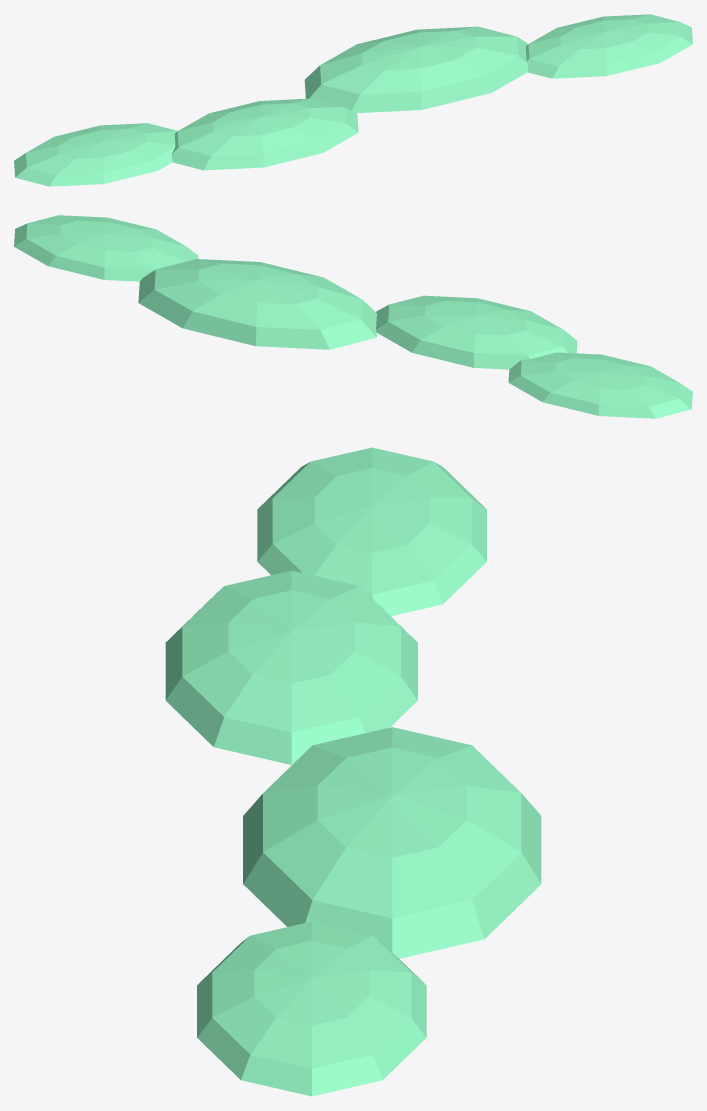
Rendered from hills.glb.
The picture shows the model from 3 angles, top to bottom: view 1: azimuth 30°, elevation 25°; view 2: azimuth 150°, elevation 25°; view 3: azimuth 270°, elevation 25°; orthographic projection. The views are drawn at different scales.
Parts seen in each view (by area): view 1: Hill1, Hill0, Hill2, Hill3; view 2: Hill1, Hill0, Hill3, Hill2; view 3: Hill1, Hill0, Hill2, Hill3.
Part boxes in pixels (x1=…): Hill1: x1=304, y1=26, x2=528, y2=113; Hill0: x1=171, y1=98, x2=358, y2=170; Hill2: x1=525, y1=14, x2=692, y2=78; Hill3: x1=14, y1=123, x2=177, y2=186; Hill1: x1=138, y1=259, x2=376, y2=349; Hill0: x1=376, y1=295, x2=577, y2=369; Hill3: x1=508, y1=352, x2=692, y2=418; Hill2: x1=14, y1=215, x2=198, y2=281; Hill1: x1=243, y1=727, x2=541, y2=958; Hill0: x1=165, y1=570, x2=417, y2=764; Hill2: x1=197, y1=921, x2=426, y2=1096; Hill3: x1=257, y1=447, x2=486, y2=616.
Bounding box in the file's own units: 38 × 1.5 × 9.35.
